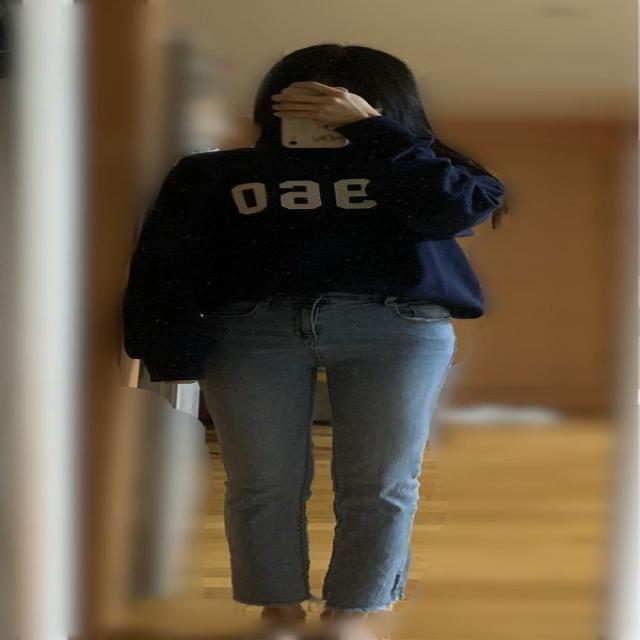denimpants: (198, 289, 453, 611)
mtm: (124, 113, 504, 380)
